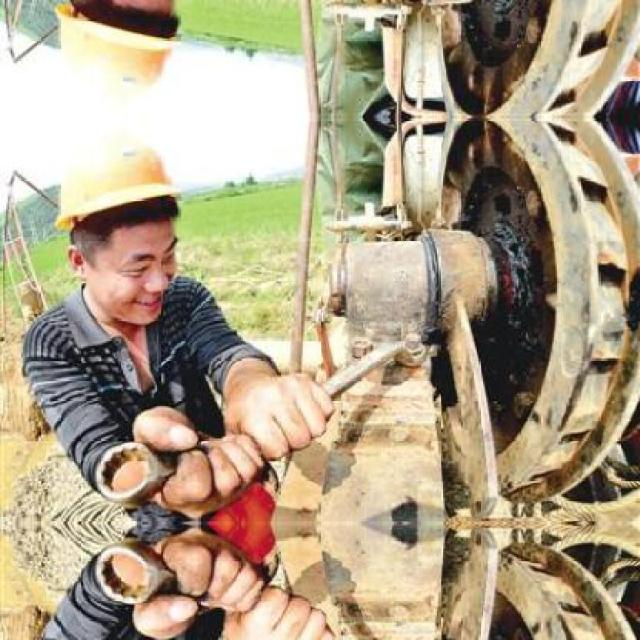helmet: (48, 119, 208, 324), (47, 0, 209, 112)
